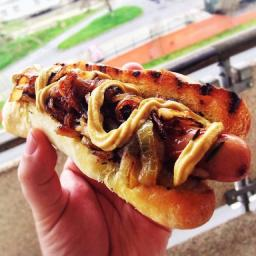hotdog: (3, 60, 254, 230)
